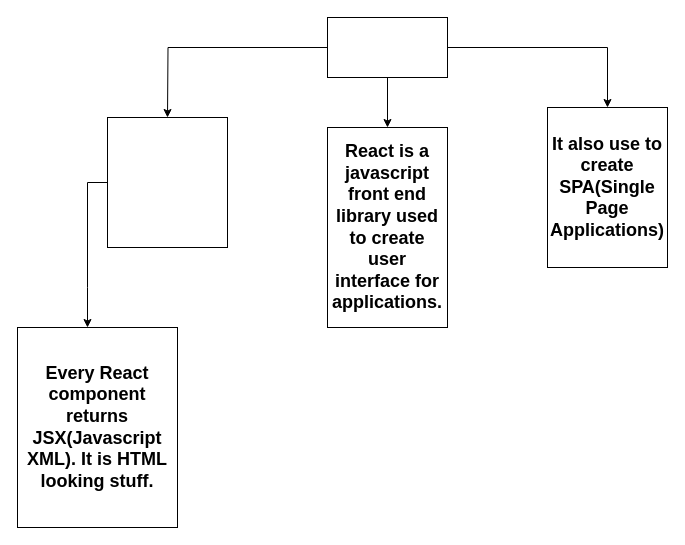
Some shapes in this 685 by 545 pixel diagram are drawn without their labels. The shapes that lost their labels are listed below. From the top down, each one's centre as x and y in pixels, then its label:
At point 387,47: "What is React.js?".
At point 167,182: "React follows component based system.".
